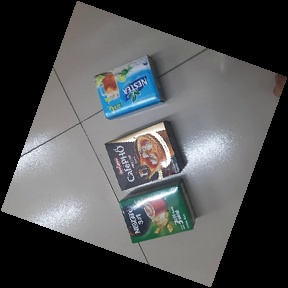CF pho: (103, 120, 183, 192)
Nes Rang: (117, 176, 199, 243)
Nestea: (91, 55, 164, 121)
